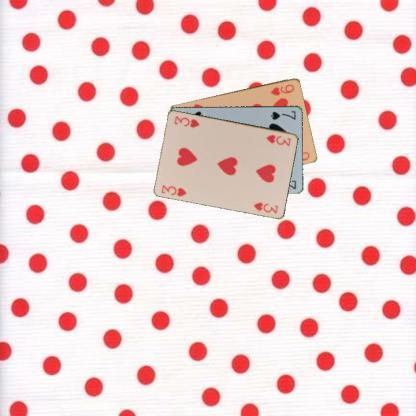3h: (159, 182, 188, 198), (262, 132, 292, 147)
7s: (268, 108, 297, 121)
9h: (268, 82, 295, 96)
